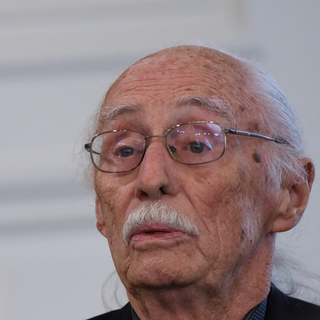eye: (106, 141, 142, 163), (179, 138, 211, 156)
